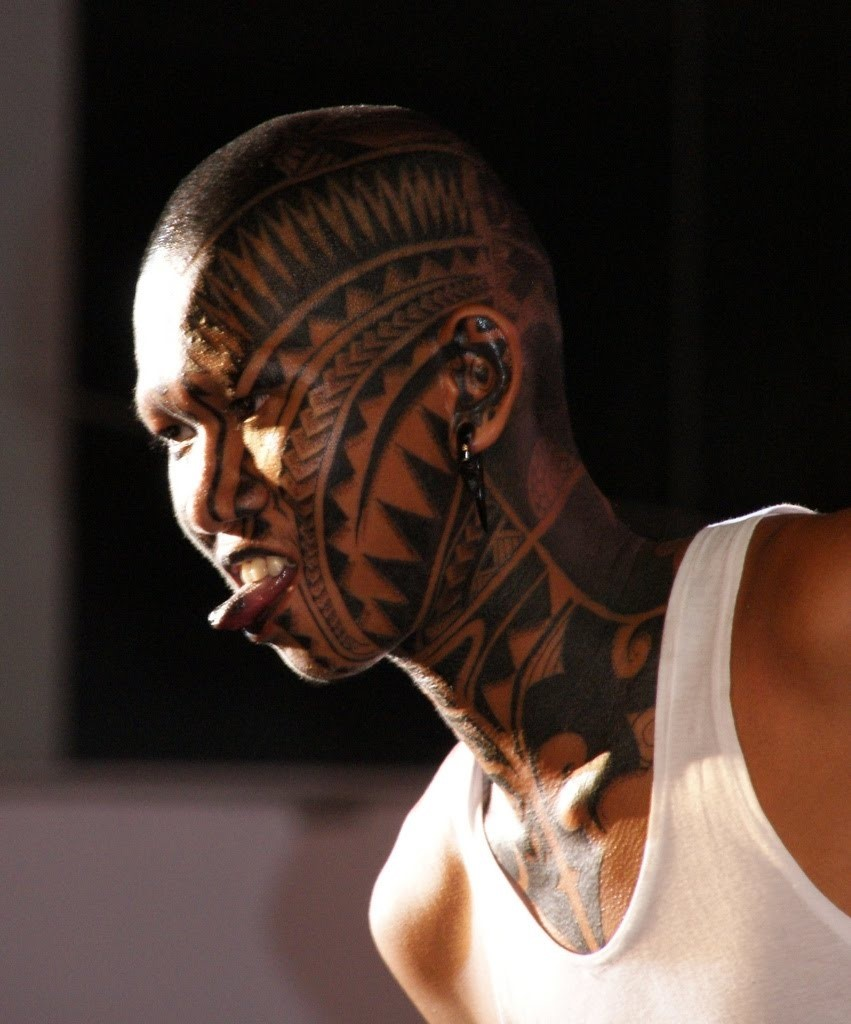face_no_mask: (128, 99, 575, 691)
